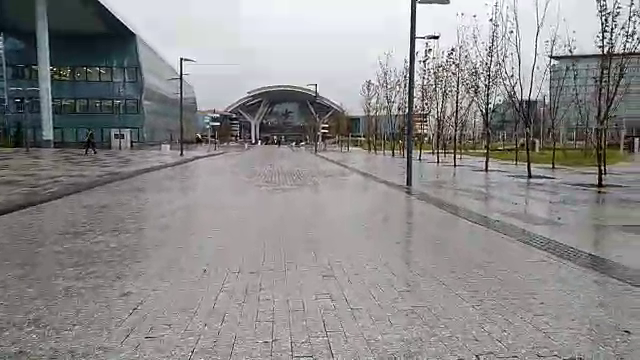mega: (224, 76, 347, 160)
